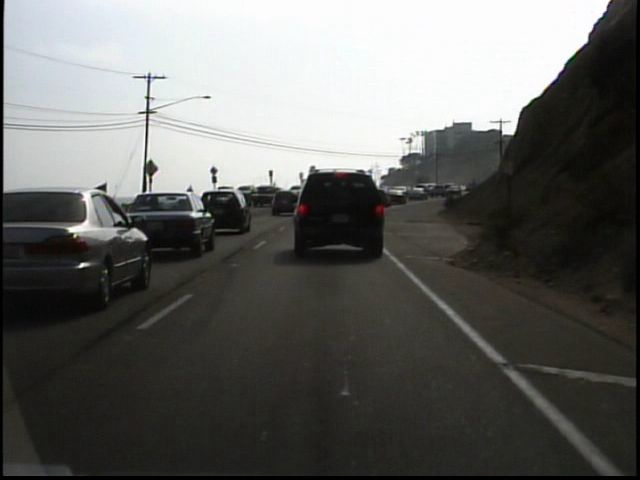person: (184, 182, 198, 210)
